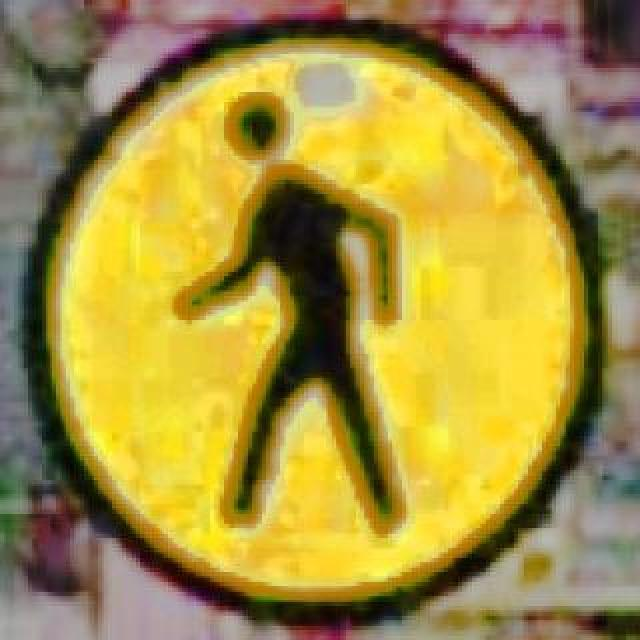pedestrian crossing: (24, 10, 608, 626)
